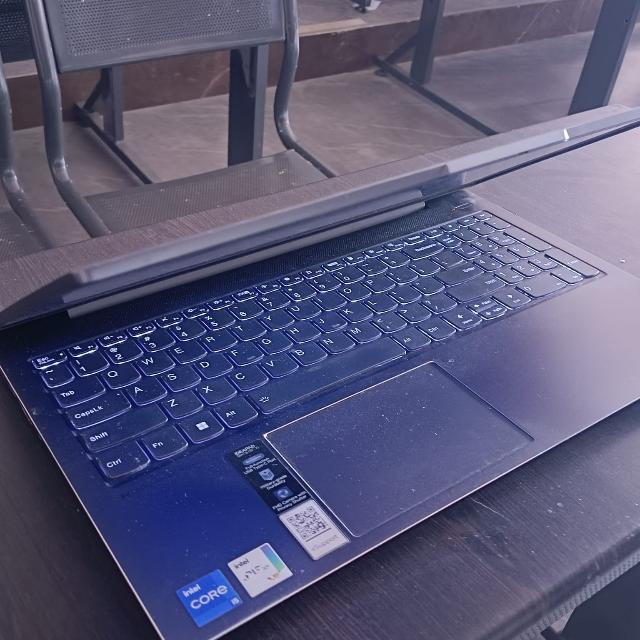laptop: (34, 94, 638, 638)
